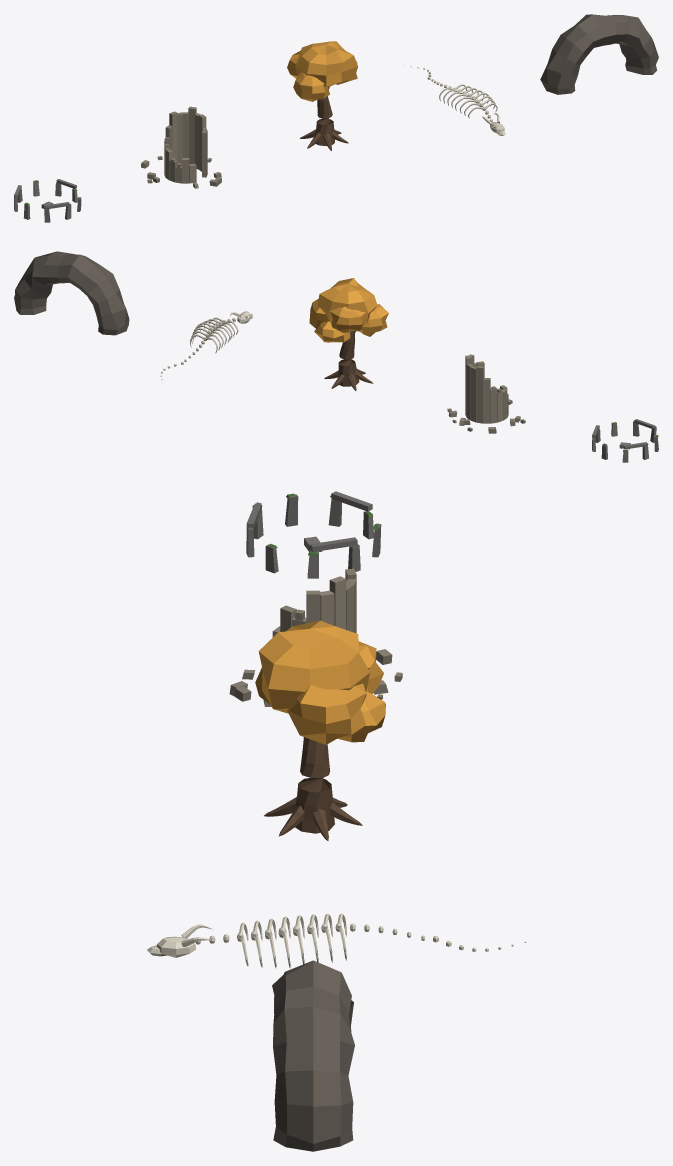
The model's file is landmarks.glb.
3 views of the same model, one above another, from view 1: azimuth 30°, elevation 25°; view 2: azimuth 150°, elevation 25°; view 3: azimuth 270°, elevation 25° (orthographic). The views are drawn at different scales.
Visible parts, largest first — view 1: Landmark_Arch, Landmark_Tree, Landmark_Tower, Landmark_Bones, Landmark_StoneCircle; view 2: Landmark_Arch, Landmark_Tree, Landmark_Tower, Landmark_Bones, Landmark_StoneCircle; view 3: Landmark_Tree, Landmark_Arch, Landmark_StoneCircle, Landmark_Tower, Landmark_Bones.
Boxes of the visible parts, bbox=[...] form: Landmark_Arch: bbox=[540, 14, 658, 94]; Landmark_Tree: bbox=[287, 41, 357, 150]; Landmark_Tower: bbox=[141, 106, 221, 188]; Landmark_Bones: bbox=[404, 65, 505, 135]; Landmark_StoneCircle: bbox=[14, 179, 81, 222]; Landmark_Arch: bbox=[14, 251, 129, 335]; Landmark_Tree: bbox=[309, 278, 388, 390]; Landmark_Tower: bbox=[447, 354, 525, 433]; Landmark_Bones: bbox=[160, 311, 253, 383]; Landmark_StoneCircle: bbox=[592, 419, 658, 462]; Landmark_Tree: bbox=[255, 620, 385, 840]; Landmark_Arch: bbox=[272, 960, 354, 1151]; Landmark_StoneCircle: bbox=[246, 491, 381, 578]; Landmark_Tower: bbox=[229, 568, 402, 706]; Landmark_Bones: bbox=[147, 913, 526, 968].
Size of the model in its own units: 231 by 34.93 by 59.35.
